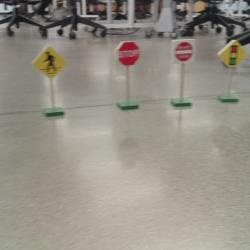do_not_enter: (171, 39, 196, 63)
pedestrian_crossing: (32, 45, 68, 79)
stop: (115, 41, 140, 66)
traffic_signal: (216, 40, 248, 69)
